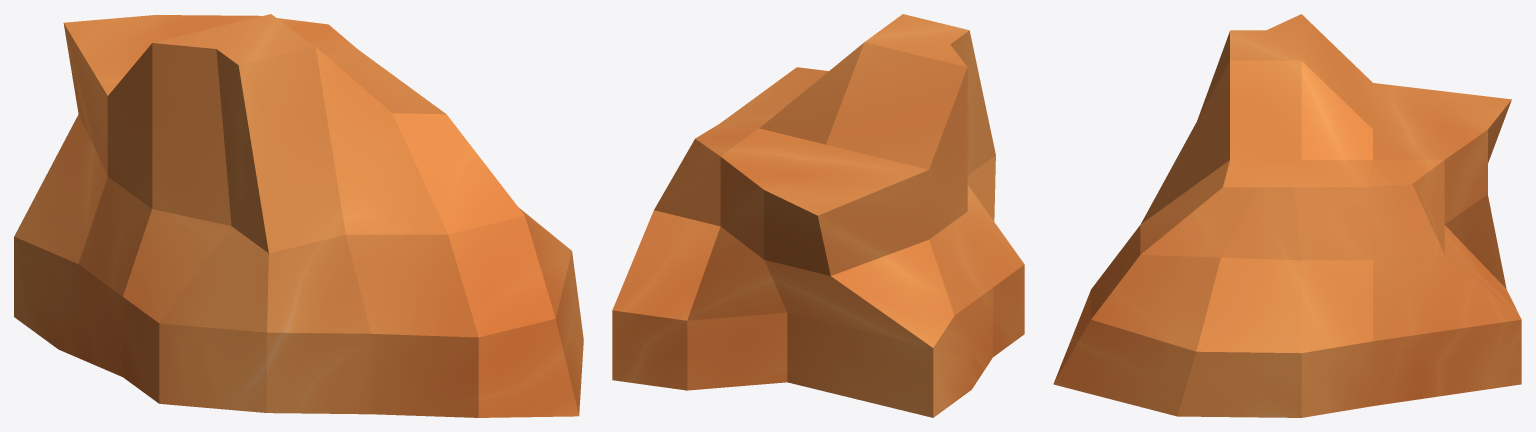
File: Roca_2.glb
The picture shows the model from 3 angles, left to right: view 1: azimuth 30°, elevation 25°; view 2: azimuth 150°, elevation 25°; view 3: azimuth 270°, elevation 25°; orthographic projection. The views are drawn at different scales.
Visible parts, largest first — view 1: Cube; view 2: Cube; view 3: Cube.
Part boxes in pixels (box(x1,y1,x2,y2)): Cube: box(14, 14, 583, 417); Cube: box(612, 14, 1024, 417); Cube: box(1053, 14, 1521, 417).
Size of the model in its own units: 6.95 by 5.33 by 8.59.
1 material, 1 textured.
